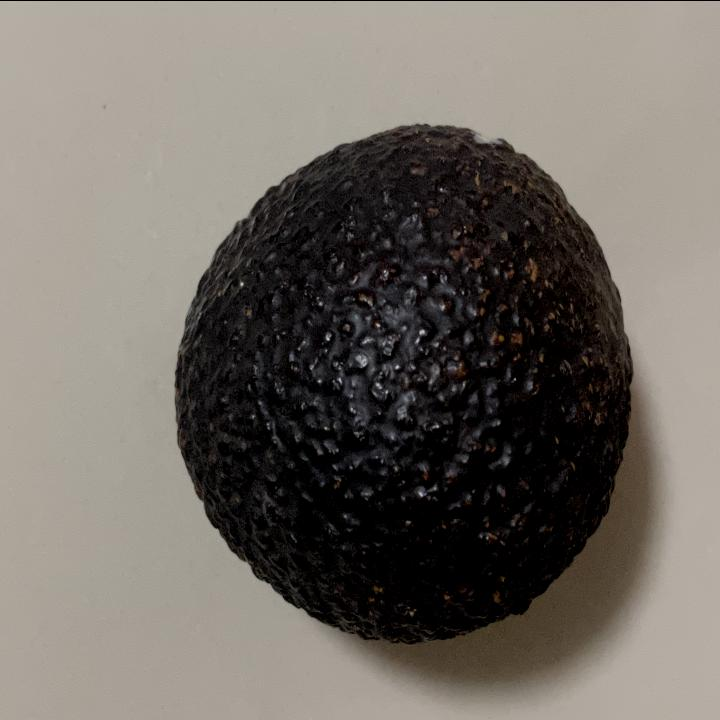Level3: (164, 110, 642, 654)
